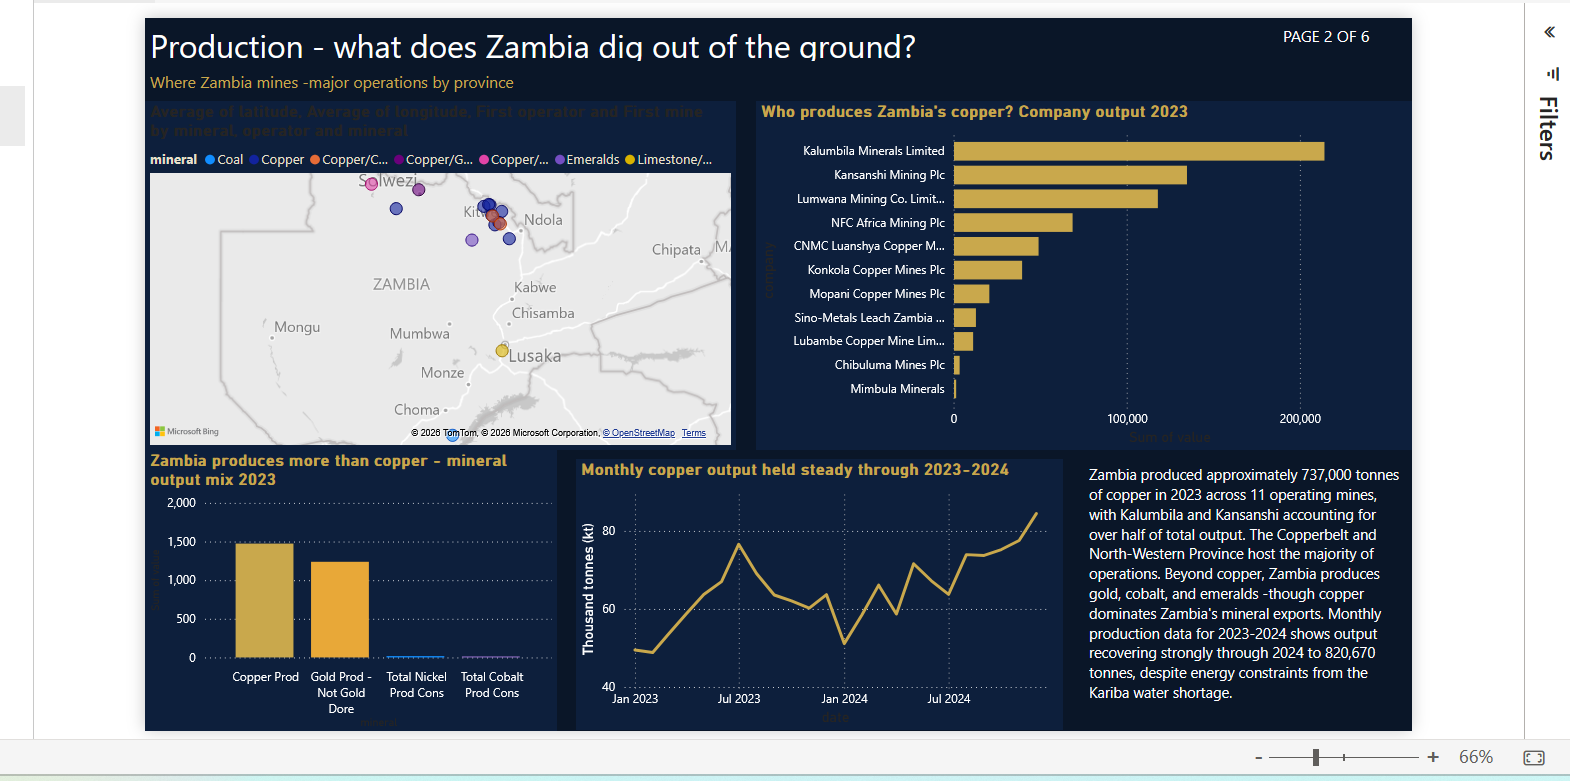

Layout of this report page (visuals, bound fields, positions):
{"tool":"powerbi","page":{"name":"Production","canvas":[1280,720],"ordinal":1},"visuals":[{"type":"map","fields":{"Category":["11_mine_locations.mineral","11_mine_locations.operator"],"Series":["11_mine_locations.mineral"],"X":["Avg(11_mine_locations.longitude)"],"Y":["Avg(11_mine_locations.latitude)"]},"box":[0,83.3,596.7,353.3],"z":0},{"type":"textbox","box":[0,0,1121.7,48.3],"z":1000},{"type":"textbox","box":[1143.3,1.7,136.7,46.7],"z":2000},{"type":"textbox","box":[0,48.3,450,53.3],"z":3000},{"type":"clusteredBarChart","title":"Who produces Zambia''s copper? Company output 2023","fields":{"Category":["1_production_master.company"],"Y":["Sum(1_production_master.value)"]},"box":[616.3,83.3,663.2,352.8],"z":4000},{"type":"lineChart","title":"Monthly copper output held steady through 2023-2024","fields":{"Category":["1_production_master.date"],"Y":["Sum(1_production_master.value)"]},"box":[435,445.6,492.4,273.4],"z":5000},{"type":"clusteredColumnChart","title":"Zambia produces more than copper - mineral output mix 2023","fields":{"Category":["1_production_master.mineral"],"Y":["Sum(1_production_master.value)"]},"box":[0,435.6,416.5,284.8],"z":6000},{"type":"textbox","box":[948.6,445.6,330.8,271.9],"z":7000}]}

Visuals, with their boxes on the page's 1280x720 design canvas (x1, y1, x2, y2). These are canvas units, not pixel positions in the 1570x781 screenshot, which may show the page scaled, cropped or inside an application window:
map - 11_mine_locations.mineral x 11_mine_locations.operator: [0, 83, 597, 437]
textbox: [0, 0, 1122, 48]
textbox: [1143, 2, 1280, 48]
textbox: [0, 48, 450, 102]
"Who produces Zambia''s copper? Company output 2023" clusteredBarChart: [616, 83, 1280, 436]
"Monthly copper output held steady through 2023-2024" lineChart: [435, 446, 927, 719]
"Zambia produces more than copper - mineral output mix 2023" clusteredColumnChart: [0, 436, 416, 720]
textbox: [949, 446, 1279, 718]
